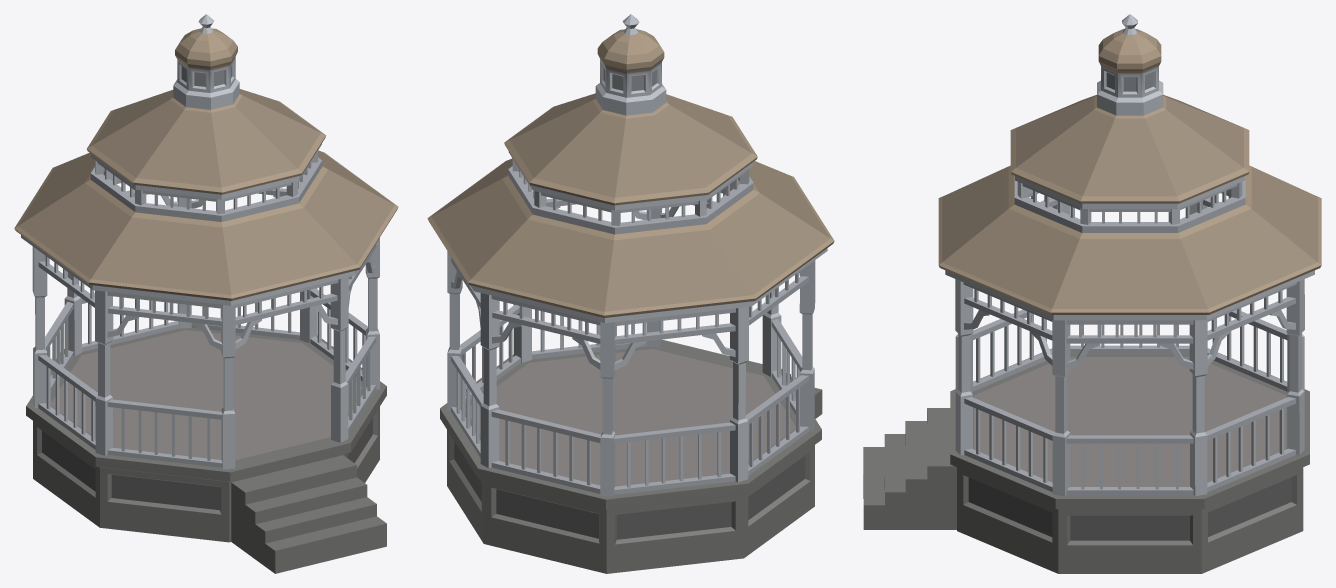
File: gazebo.glb
3 renders of one model, left to right at view 1: azimuth 30°, elevation 25°; view 2: azimuth 150°, elevation 25°; view 3: azimuth 270°, elevation 25°, orthographic. The views are drawn at different scales.
Parts seen in each view (by area): view 1: SM_Env_Gazebo_01; view 2: SM_Env_Gazebo_01; view 3: SM_Env_Gazebo_01.
Part boxes in pixels (x1,y1,x2,y2): SM_Env_Gazebo_01: (14, 14, 398, 573); SM_Env_Gazebo_01: (427, 14, 834, 573); SM_Env_Gazebo_01: (863, 14, 1321, 573).
Bounding box in the file's own units: 4.13 × 5.79 × 4.94.
1 material, 1 textured.
